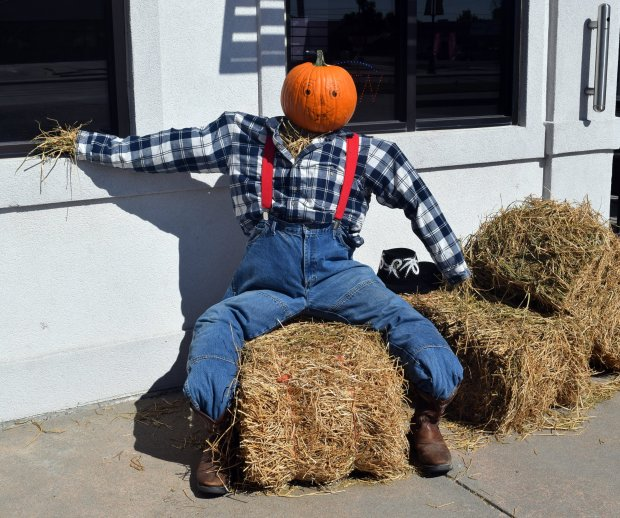person-like: (36, 48, 477, 501)
